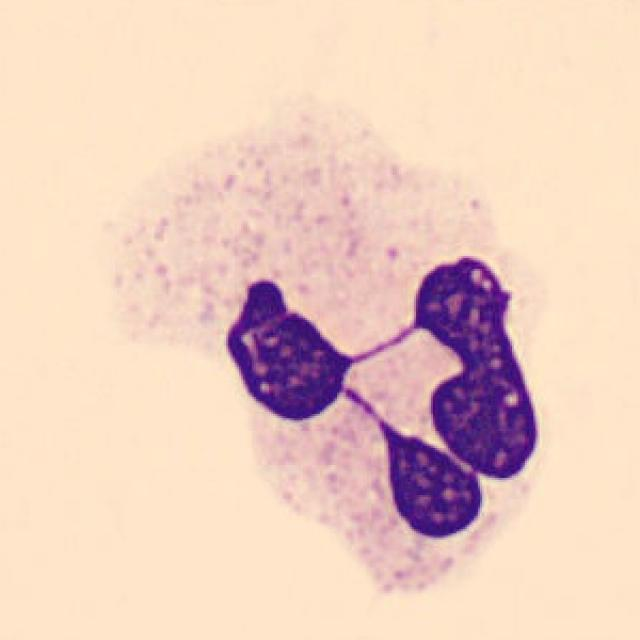White Blood Cell: (116, 112, 538, 588)
